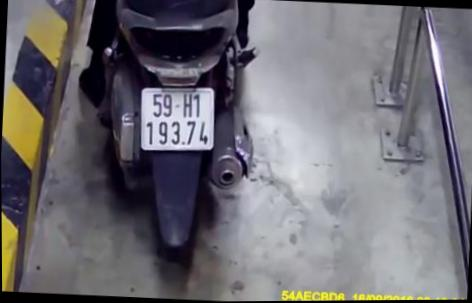LP: (136, 82, 219, 156)
